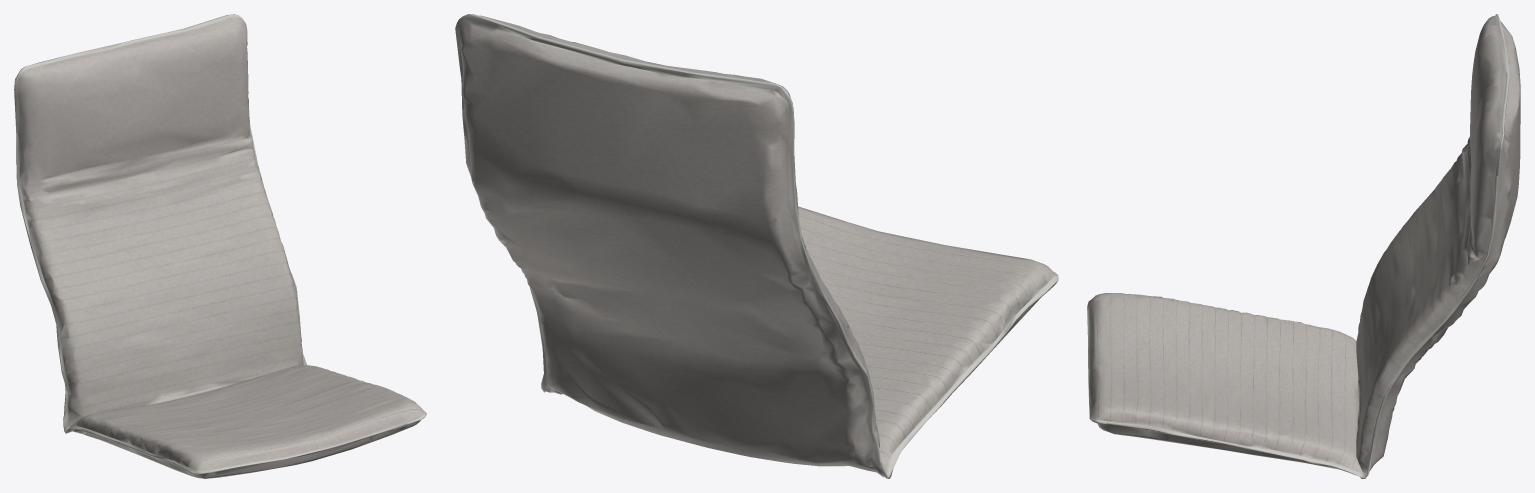
3 views of the same model, side by side, from view 1: azimuth 30°, elevation 25°; view 2: azimuth 150°, elevation 25°; view 3: azimuth 270°, elevation 25° (orthographic). The views are drawn at different scales.
Visible parts, largest first — view 1: ProcessedMeshNode; view 2: ProcessedMeshNode; view 3: ProcessedMeshNode.
Part boxes in pixels (bbox=[...]): ProcessedMeshNode: bbox=[14, 14, 426, 478]; ProcessedMeshNode: bbox=[455, 14, 1058, 478]; ProcessedMeshNode: bbox=[1087, 14, 1520, 478].
Bounding box in the file's own units: 0.5796 × 0.7322 × 0.8173.
1 material, 1 textured.
